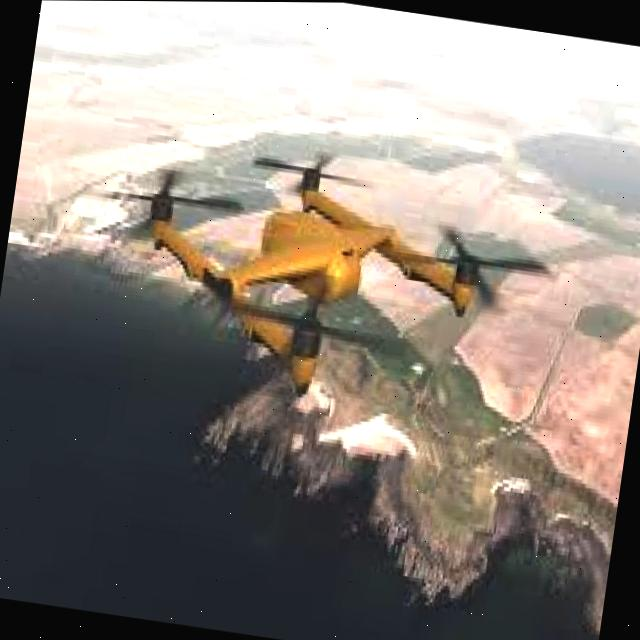drone: (80, 115, 549, 425)
